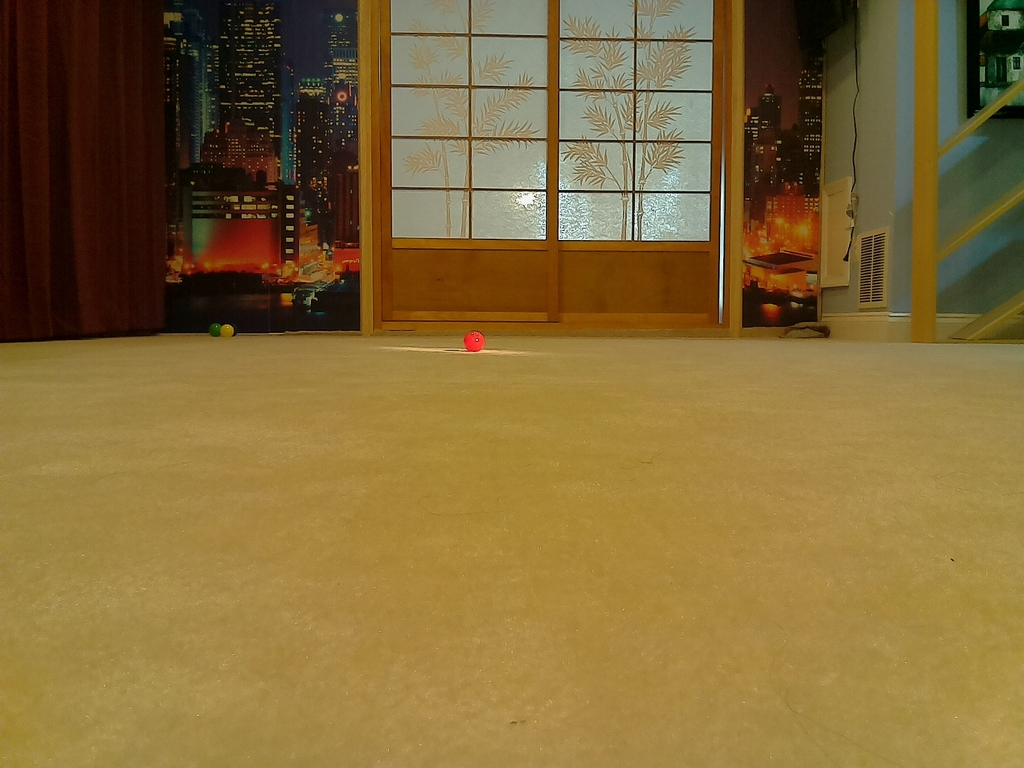ball: (464, 331, 486, 353)
